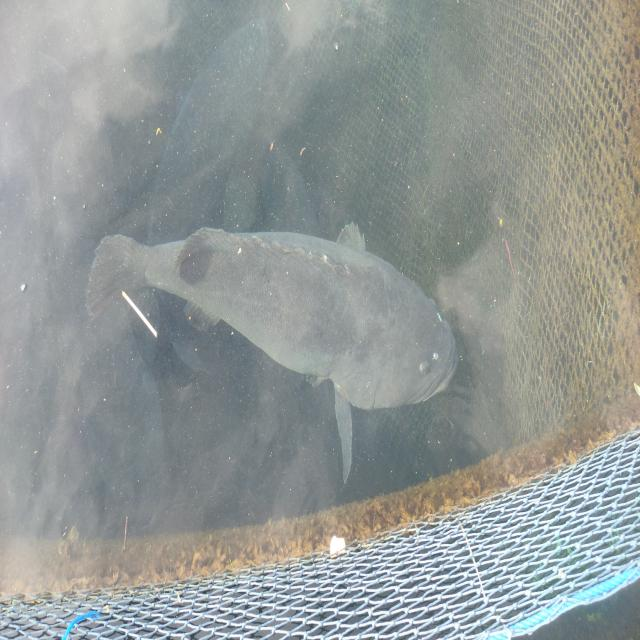ikan: (98, 176, 474, 502)
